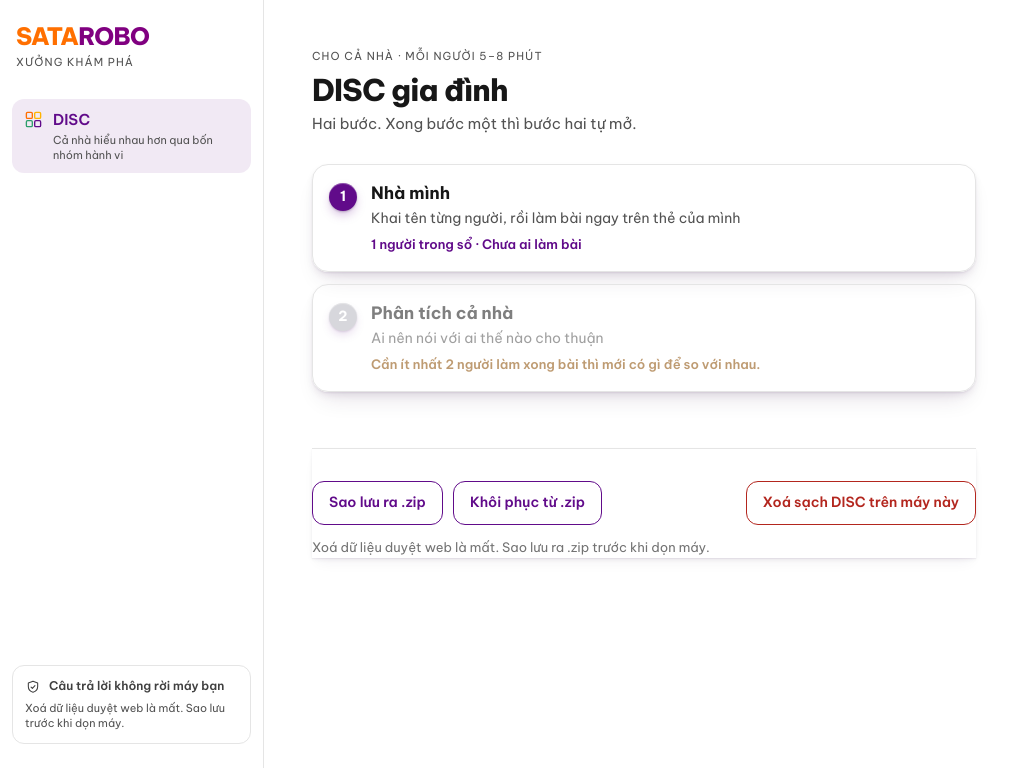
Test: 🔴 vào bài từ thẻ — KHÔNG hỏi tên lần nữa › người có lớp: vào thẳng màn dặn dò, nói rõ đang làm cho ai
The image size is (1024, 768).
Click the button "Nhà mình" at [644, 218], box [313, 164, 975, 270]
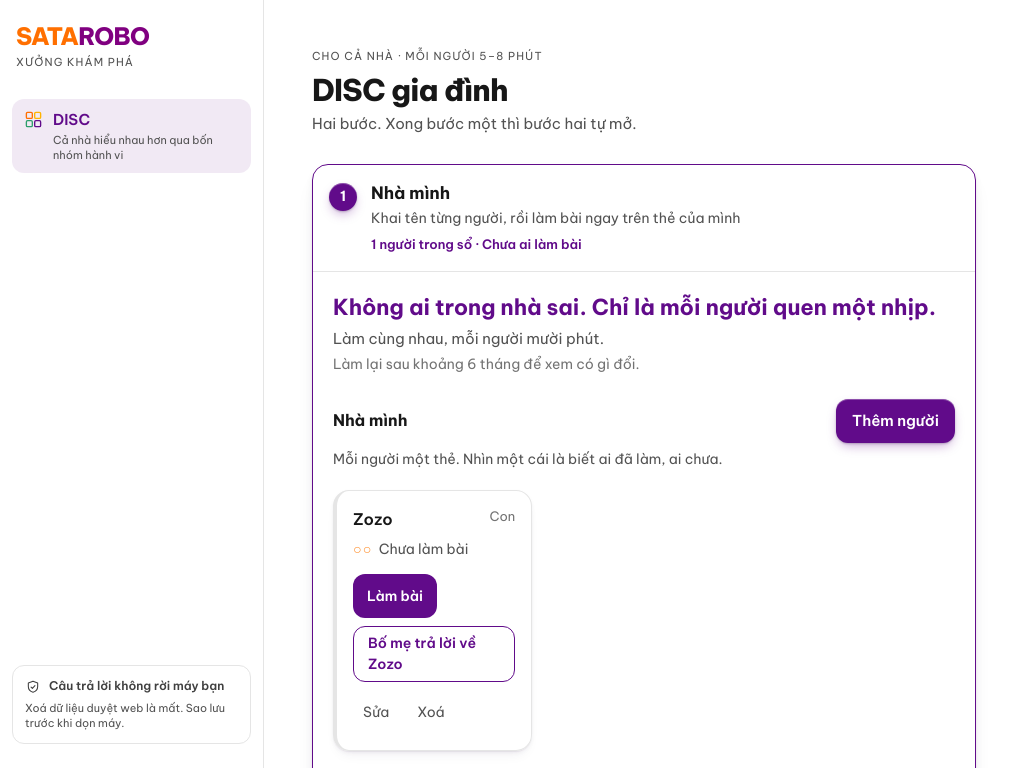
Expected: the list is shown, [333, 490, 532, 751]
Click the button "Làm bài" at [395, 596], box [353, 574, 437, 618]
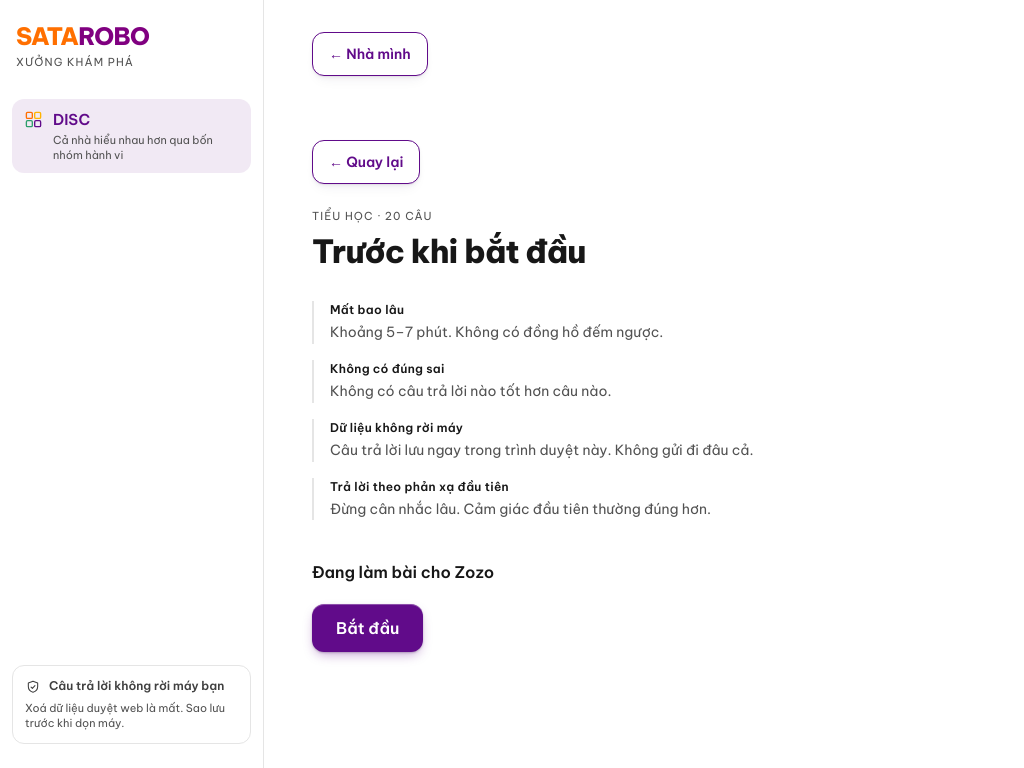
Expected: the element showing "Đang làm bài cho Zozo Bắt đầu" is shown, [312, 562, 494, 652]
